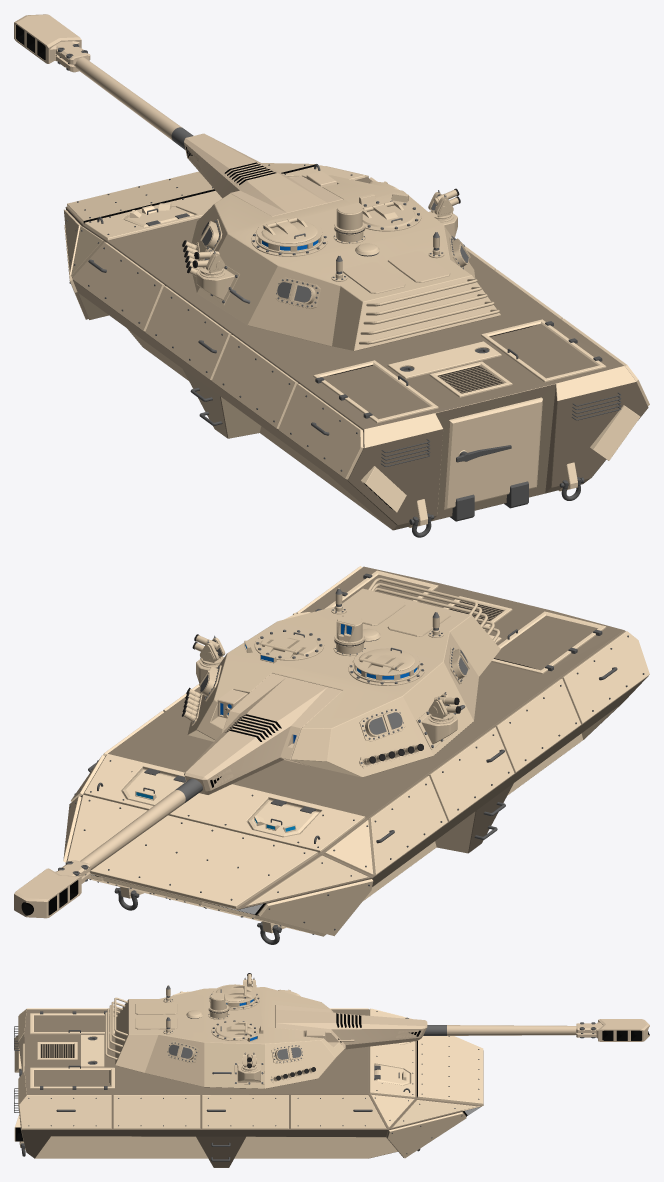
The model's file is BMP .fbx.
3 renders of one model, top to bottom at view 1: azimuth 30°, elevation 25°; view 2: azimuth 150°, elevation 25°; view 3: azimuth 270°, elevation 25°, orthographic. The views are drawn at different scales.
Parts seen in each view (by area): view 1: Housing, Tower, Breech, Gun; view 2: Housing, Tower, Breech, Gun; view 3: Housing, Tower, Breech, Gun.
Boxes of the visible parts, left/top/right/bottom form: Housing: left=64, top=163, right=649, bottom=537; Tower: left=182, top=175, right=500, bottom=351; Breech: left=184, top=133, right=342, bottom=216; Gun: left=14, top=14, right=193, bottom=149; Housing: left=63, top=566, right=649, bottom=944; Tower: left=182, top=578, right=500, bottom=777; Breech: left=184, top=673, right=342, bottom=794; Gun: left=14, top=778, right=202, bottom=918; Housing: left=14, top=1008, right=483, bottom=1167; Tower: left=105, top=973, right=344, bottom=1088; Breech: left=275, top=1005, right=427, bottom=1049; Gun: left=423, top=1019, right=649, bottom=1041.
Bounding box in the file's own units: 632 × 403 × 1716.
